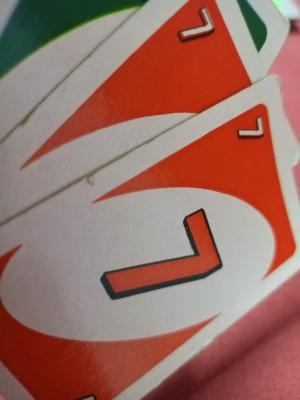num_7: (92, 201, 231, 303), (170, 5, 220, 46)
